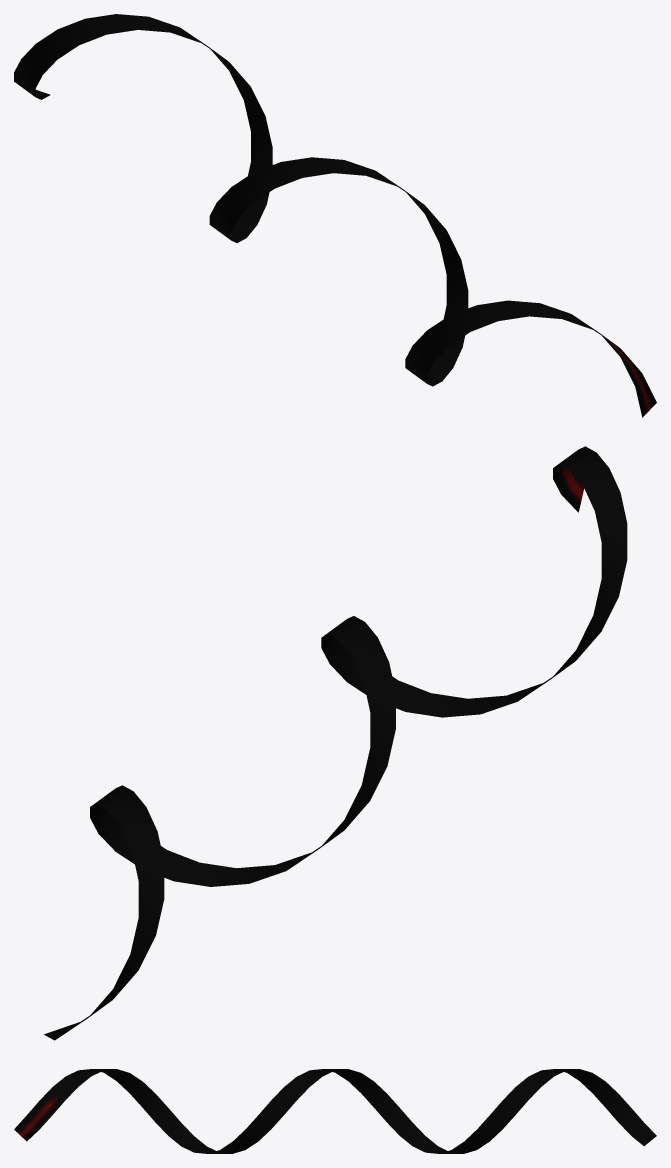
Rendered from trails_01.FBX.
3 renders of one model, top to bottom at view 1: azimuth 30°, elevation 25°; view 2: azimuth 150°, elevation 25°; view 3: azimuth 270°, elevation 25°, orthographic. The views are drawn at different scales.
Visible parts, largest first — view 1: trails_01; view 2: trails_01; view 3: trails_01.
Boxes of the visible parts, <box> form: trails_01: <box>14,14,656,417</box>; trails_01: <box>44,446,627,1040</box>; trails_01: <box>14,1069,656,1153</box>.
Bounding box in the file's own units: 0.7484 × 0.737 × 5.65.
